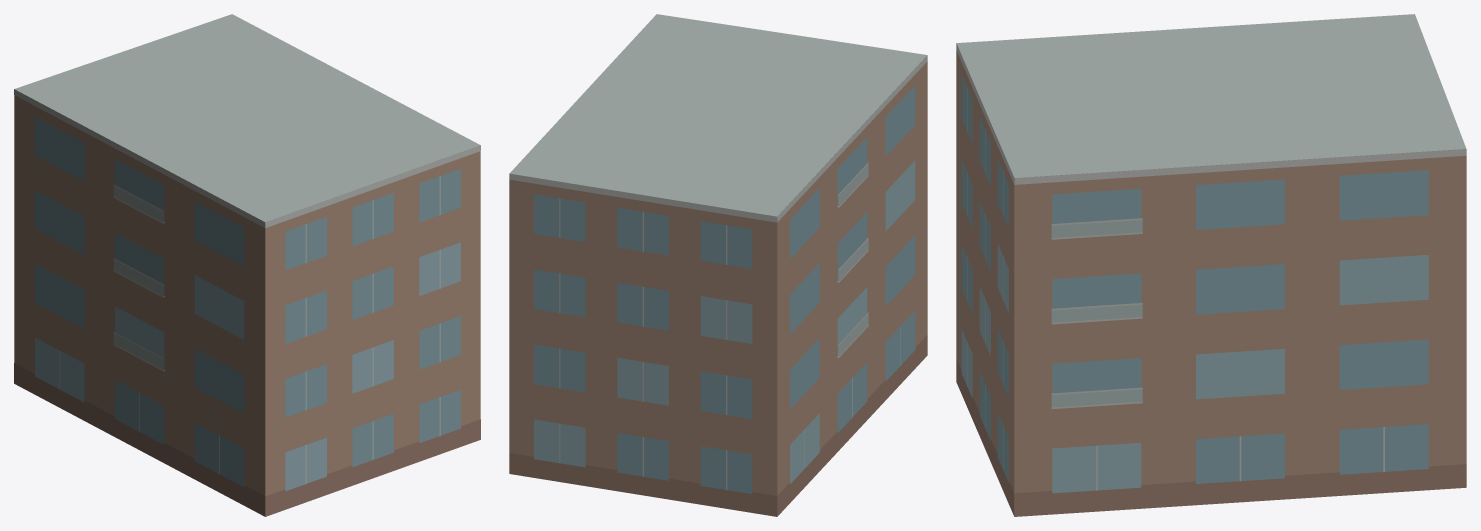
Rendered from survey-upis-32633633.glb.
3 views of the same model, side by side, from view 1: azimuth 30°, elevation 25°; view 2: azimuth 150°, elevation 25°; view 3: azimuth 270°, elevation 25° (orthographic). The views are drawn at different scales.
Parts seen in each view (by area): view 1: survey-upis-32633633.tmp; view 2: survey-upis-32633633.tmp; view 3: survey-upis-32633633.tmp.
Boxes of the visible parts, bbox=[...] form: survey-upis-32633633.tmp: bbox=[14, 14, 480, 516]; survey-upis-32633633.tmp: bbox=[509, 14, 927, 516]; survey-upis-32633633.tmp: bbox=[956, 14, 1466, 516].
Bounding box in the file's own units: 12.68 × 12.2 × 16.66.
